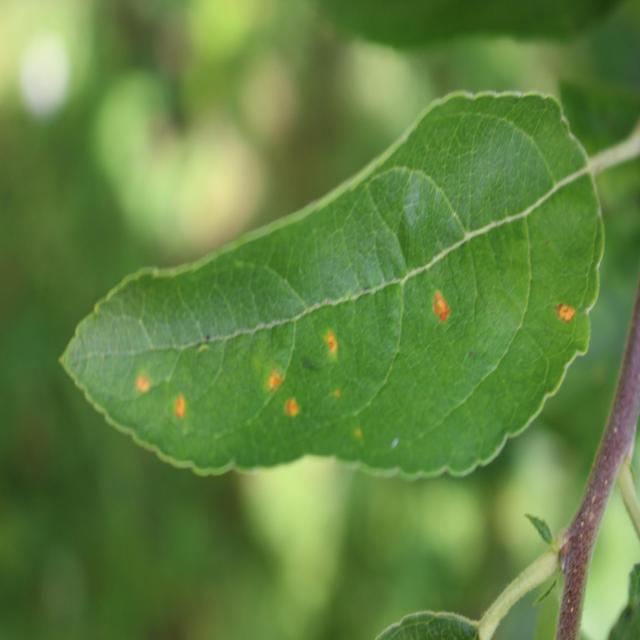Rust: (274, 385, 318, 435), (425, 280, 461, 330), (123, 364, 162, 404), (166, 375, 195, 424), (322, 321, 346, 374), (550, 297, 580, 338), (261, 354, 286, 400), (345, 419, 366, 449), (329, 376, 343, 406)
